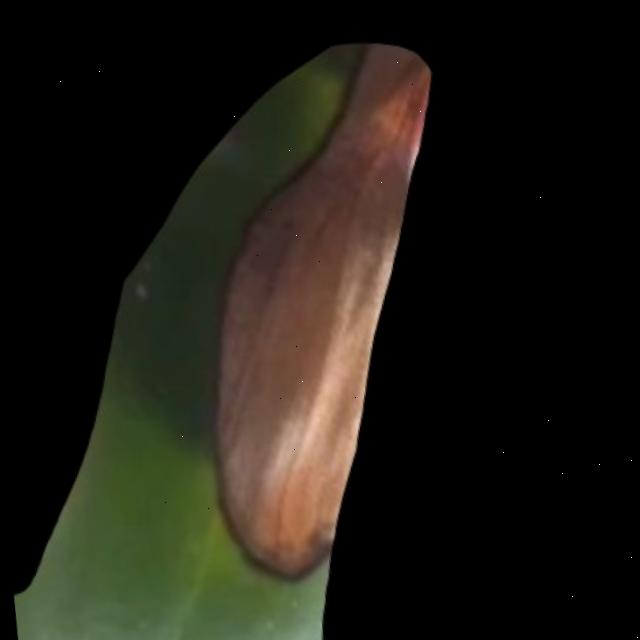mite: (97, 36, 400, 448), (204, 36, 375, 196), (275, 46, 361, 158), (118, 256, 163, 307), (128, 274, 155, 297), (285, 585, 307, 605), (262, 609, 282, 630)
sunburn: (167, 29, 484, 585)
